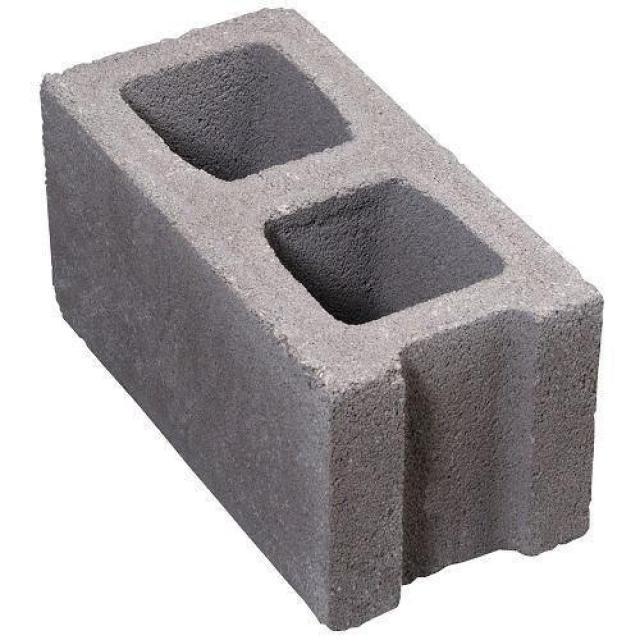Concrete: (40, 8, 605, 634)
